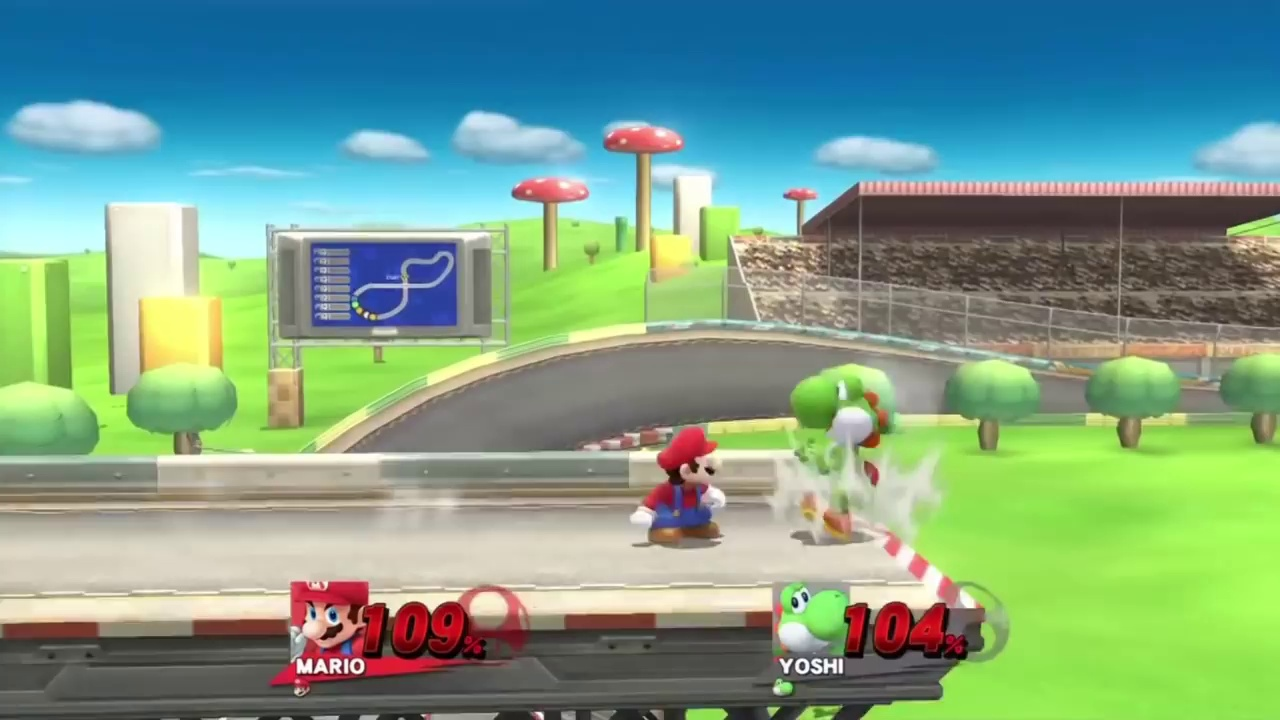Mario: (631, 425, 725, 548)
